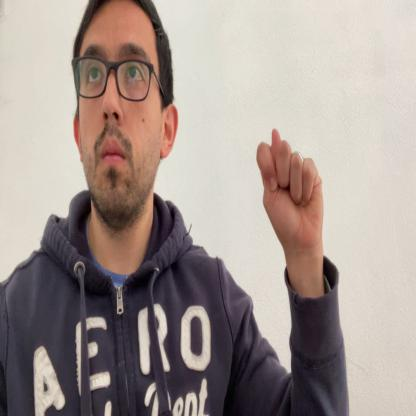T: (258, 129, 324, 239)
